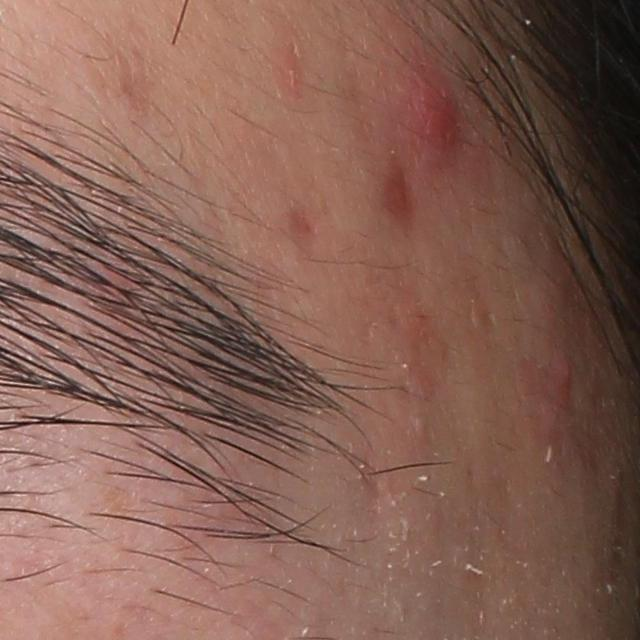papule: (406, 61, 463, 156), (541, 357, 576, 406)
